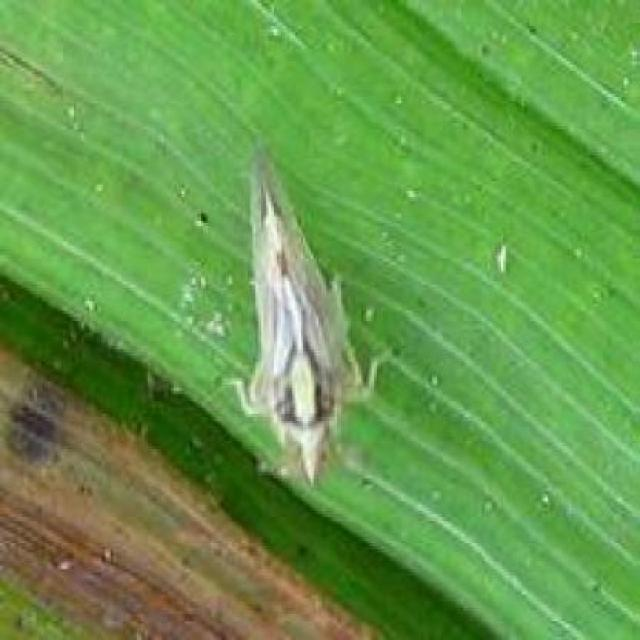brown-planthopper: (236, 157, 359, 489)
